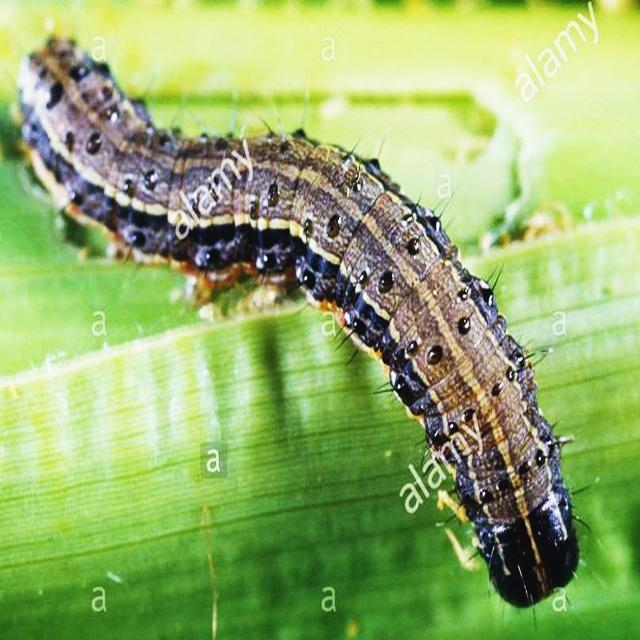worm: (14, 32, 588, 609)
